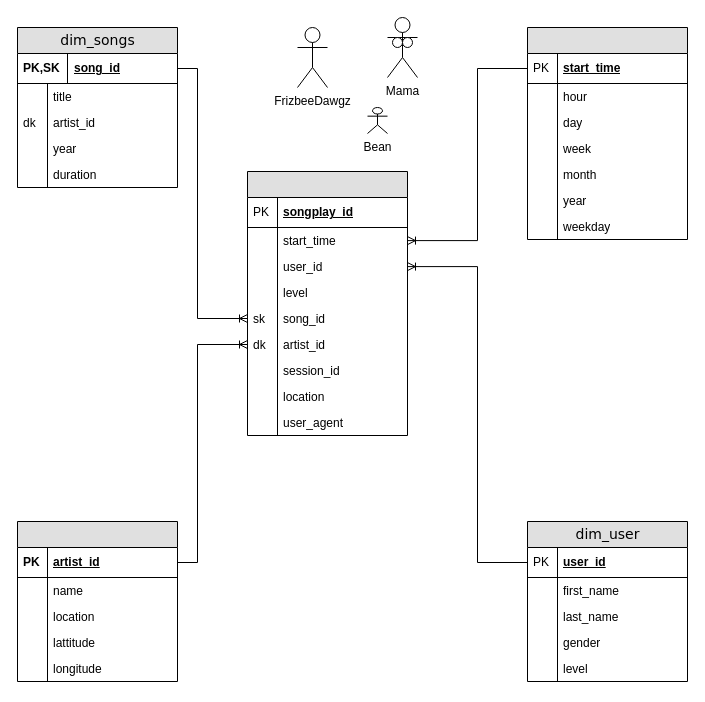
Image size: 705x702. Some labels were removed from this diagram. Each missing label, with the box of its shape:
dim_artists: (16, 520, 178, 682)
dim_time: (526, 26, 688, 240)
fact_songplays: (246, 170, 408, 436)
